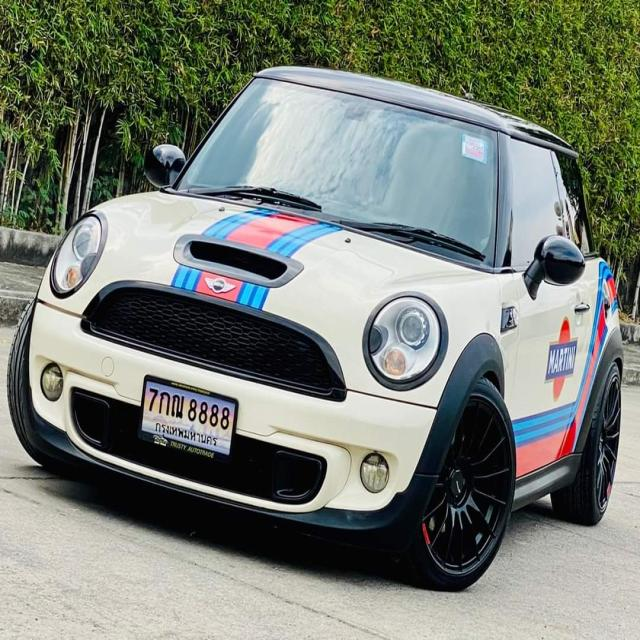license_plate: (140, 374, 240, 458)
